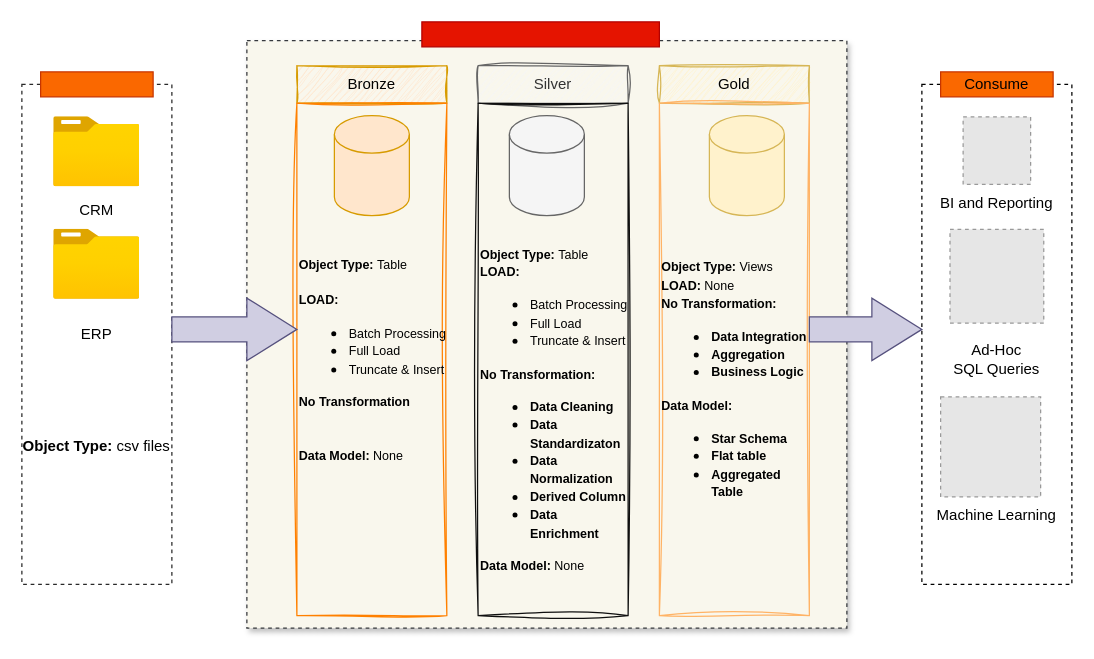
This 1094x659 diagram has some shape labels left out. Grey dashed boxes stand in for pictures. The centre of each missing label's shape, as x and y in pixels:
Data Warehouse: point 540,34
Source: point 96,84
